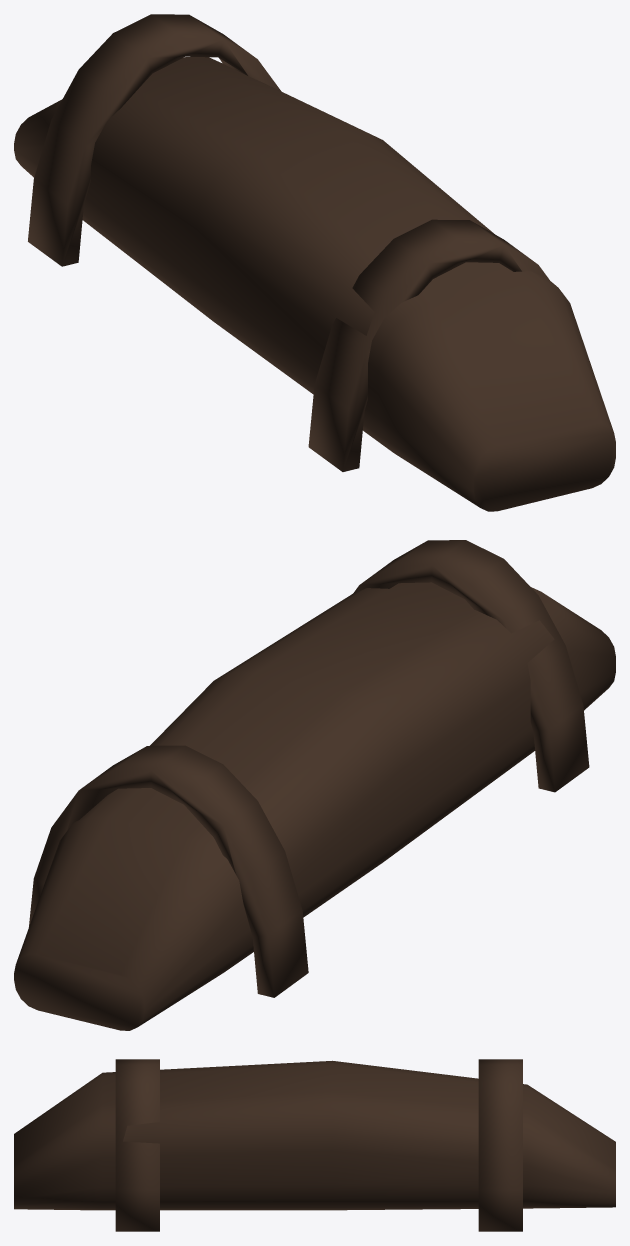
File: cheek_pad.glb
3 renders of one model, top to bottom at view 1: azimuth 30°, elevation 25°; view 2: azimuth 150°, elevation 25°; view 3: azimuth 270°, elevation 25°, orthographic. The views are drawn at different scales.
Visible parts, largest first — view 1: cheek_pad; view 2: cheek_pad; view 3: cheek_pad.
Boxes of the visible parts, x1=… form: cheek_pad: x1=14, y1=14, x2=615, y2=511; cheek_pad: x1=14, y1=540, x2=615, y2=1030; cheek_pad: x1=14, y1=1059, x2=615, y2=1231.
Bounding box in the file's own units: 0.0416 × 0.0318 × 0.136.
